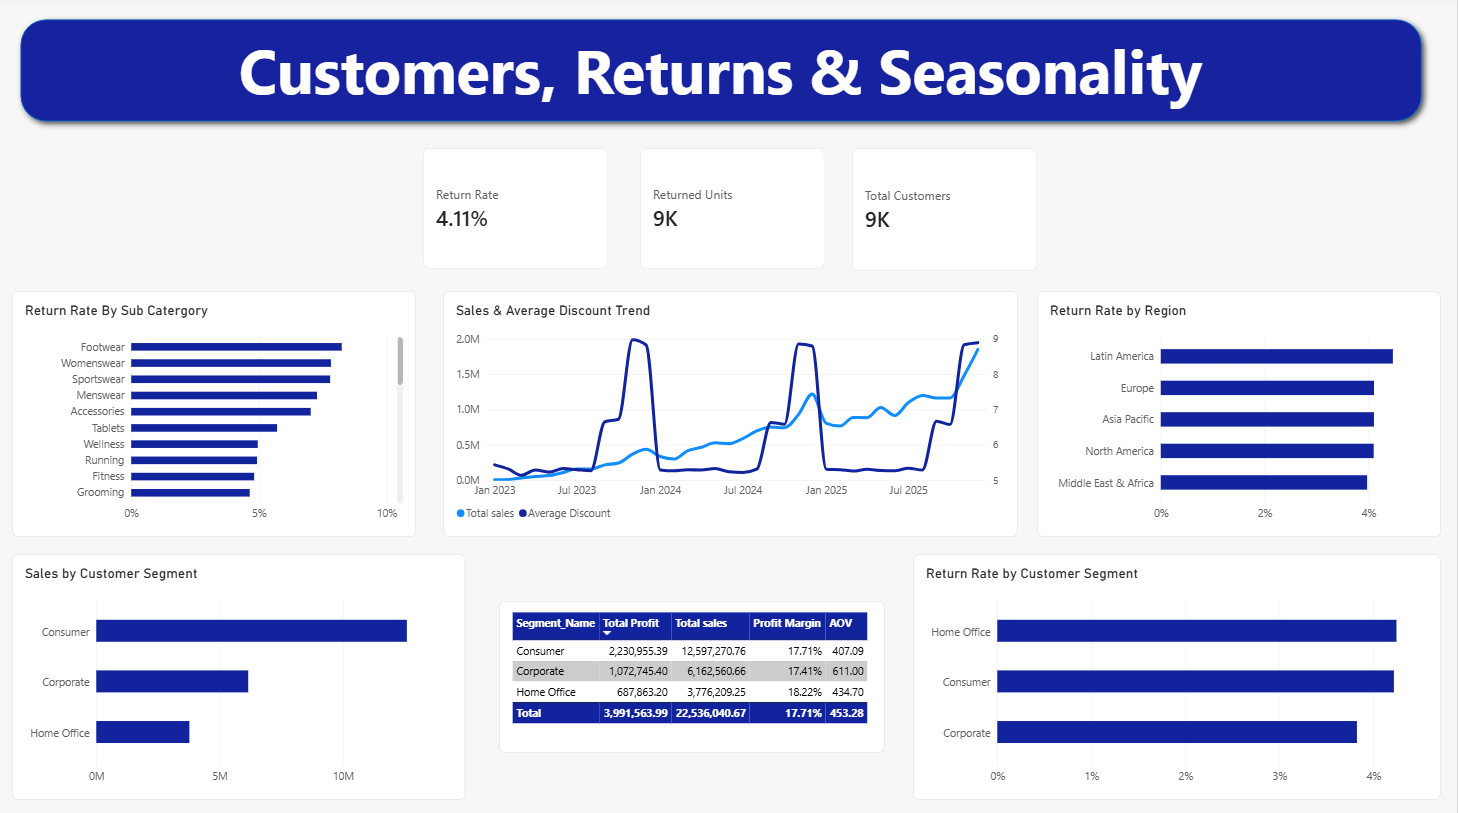

The page's visual inventory and layout, read from the dashboard file:
{"tool":"powerbi","page":{"name":"Customers, Returns & Seasonality","canvas":[1920,1080],"ordinal":2},"visuals":[{"type":"cardVisual","fields":{"Data":["FactSales.Return Rate"]},"box":[558.4,198.9,243.7,159.4],"z":0},{"type":"cardVisual","fields":{"Data":["FactSales.Total Customers"]},"box":[1123.5,198.9,243.7,162],"z":1000},{"type":"cardVisual","fields":{"Data":["FactSales.Total Returns"]},"box":[844.2,198.9,243.7,159.4],"z":2000},{"type":"shape","box":[15.8,17.1,1870.4,159],"z":3000},{"type":"textbox","box":[27.7,42.1,1845.2,110.6],"z":4000},{"type":"barChart","title":"Return Rate By Sub Catergory","fields":{"Category":["DimProduct.Sub_Category"],"Y":["FactSales.Return Rate"]},"box":[17.1,387.2,532.1,324],"z":5000},{"type":"lineChart","title":"Sales & Average Discount Trend","fields":{"Category":["DimDate.Year_Month"],"Y":["FactSales.Total sales"],"Y2":["FactSales.Average Discount"]},"box":[584.8,387.2,757.3,324],"z":6000},{"type":"barChart","fields":{"Category":["DimGeography.Region"],"Y":["FactSales.Return Rate"]},"box":[1367.1,387.2,532,324],"z":7000},{"type":"barChart","title":"Sales by Customer Segment","fields":{"Category":["DimSegment.Segment_Name"],"Y":["FactSales.Total sales"]},"box":[17.1,733.6,596.6,324],"z":8000},{"type":"tableEx","fields":{"Values":["DimSegment.Segment_Name","FactSales.Total Profit","FactSales.Total sales","FactSales.Profit Margin","FactSales.AOV"]},"box":[658.5,795.5,508.4,200.2],"z":9000},{"type":"barChart","title":"Return Rate by Customer Segment","fields":{"Category":["DimSegment.Segment_Name"],"Y":["FactSales.Return Rate"]},"box":[1203.8,733.6,695.4,324],"z":9001}]}

Visuals, with their boxes in screenshot pixels (x1, y1, x2, y2), scaled from the page's 1920x1080 canvas onto the 1458x813 screenshot:
cardVisual - FactSales.Return Rate: [x1=424, y1=150, x2=609, y2=270]
cardVisual - FactSales.Total Customers: [x1=853, y1=150, x2=1038, y2=272]
cardVisual - FactSales.Total Returns: [x1=641, y1=150, x2=826, y2=270]
shape: [x1=12, y1=13, x2=1432, y2=133]
textbox: [x1=21, y1=32, x2=1422, y2=115]
"Return Rate By Sub Catergory" barChart: [x1=13, y1=291, x2=417, y2=535]
"Sales & Average Discount Trend" lineChart: [x1=444, y1=291, x2=1019, y2=535]
barChart - DimGeography.Region x FactSales.Return Rate: [x1=1038, y1=291, x2=1442, y2=535]
"Sales by Customer Segment" barChart: [x1=13, y1=552, x2=466, y2=796]
tableEx - DimSegment.Segment_Name x FactSales.Total Profit: [x1=500, y1=599, x2=886, y2=750]
"Return Rate by Customer Segment" barChart: [x1=914, y1=552, x2=1442, y2=796]
